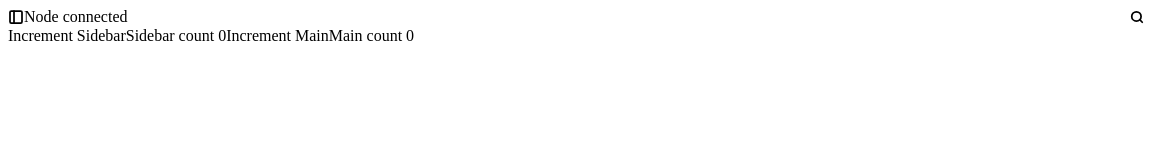
Test case: AppShellChrome › places sidebar and main in side-dependent DOM order without remounting them
What coordinates should you click on to do the following:
click the button "Increment Sidebar"
I would click on:
 (67, 36)
Its box is x1=8 y1=26 x2=126 y2=46.
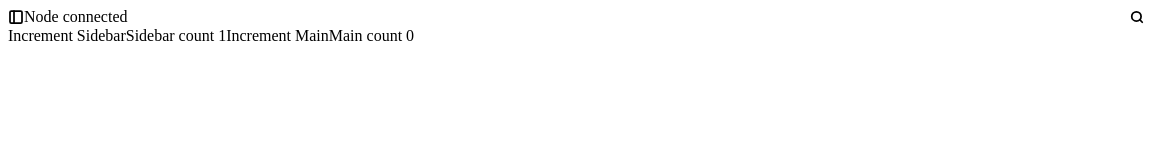
What coordinates should you click on to do the following:
click the button "Increment Main"
I would click on:
 (278, 36)
Its box is x1=226 y1=26 x2=329 y2=46.
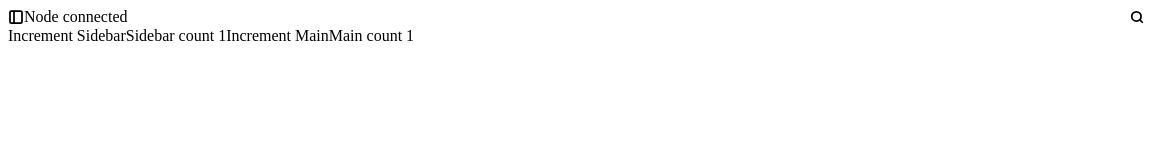
Result: the text "Sidebar count 1" is shown at x1=126 y1=27 x2=226 y2=44
Result: the text "Main count 1" is shown at x1=329 y1=27 x2=414 y2=44
What coordinates should you click on to do the following:
click the button named "Workspace navigation"
I would click on:
 (16, 17)
Its box is x1=8 y1=9 x2=24 y2=25.
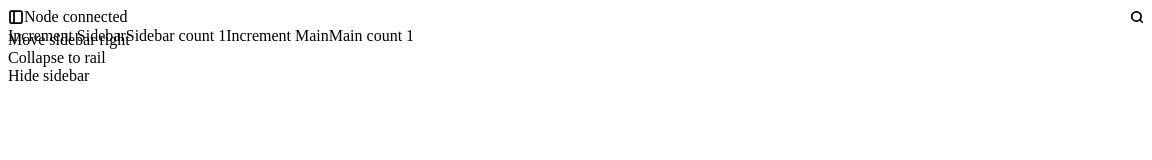
What coordinates should you click on to do the following:
click the menu item "Move sidebar right"
I would click on:
 (69, 40)
Its box is x1=8 y1=31 x2=130 y2=49.
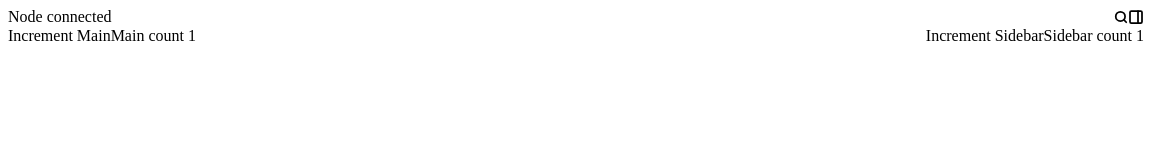
Result: the text "Sidebar count 1" is shown at x1=1044 y1=27 x2=1144 y2=44
Result: the text "Main count 1" is shown at x1=111 y1=27 x2=196 y2=44
Result: the menu is gone
